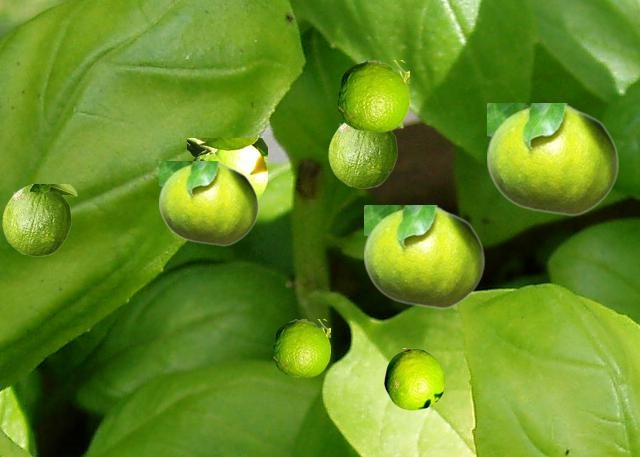dalandan: (487, 103, 618, 215), (364, 205, 484, 308), (159, 161, 258, 245), (2, 184, 76, 255), (338, 60, 408, 131), (187, 138, 266, 199), (328, 122, 402, 187), (384, 348, 444, 409), (273, 319, 329, 376)
